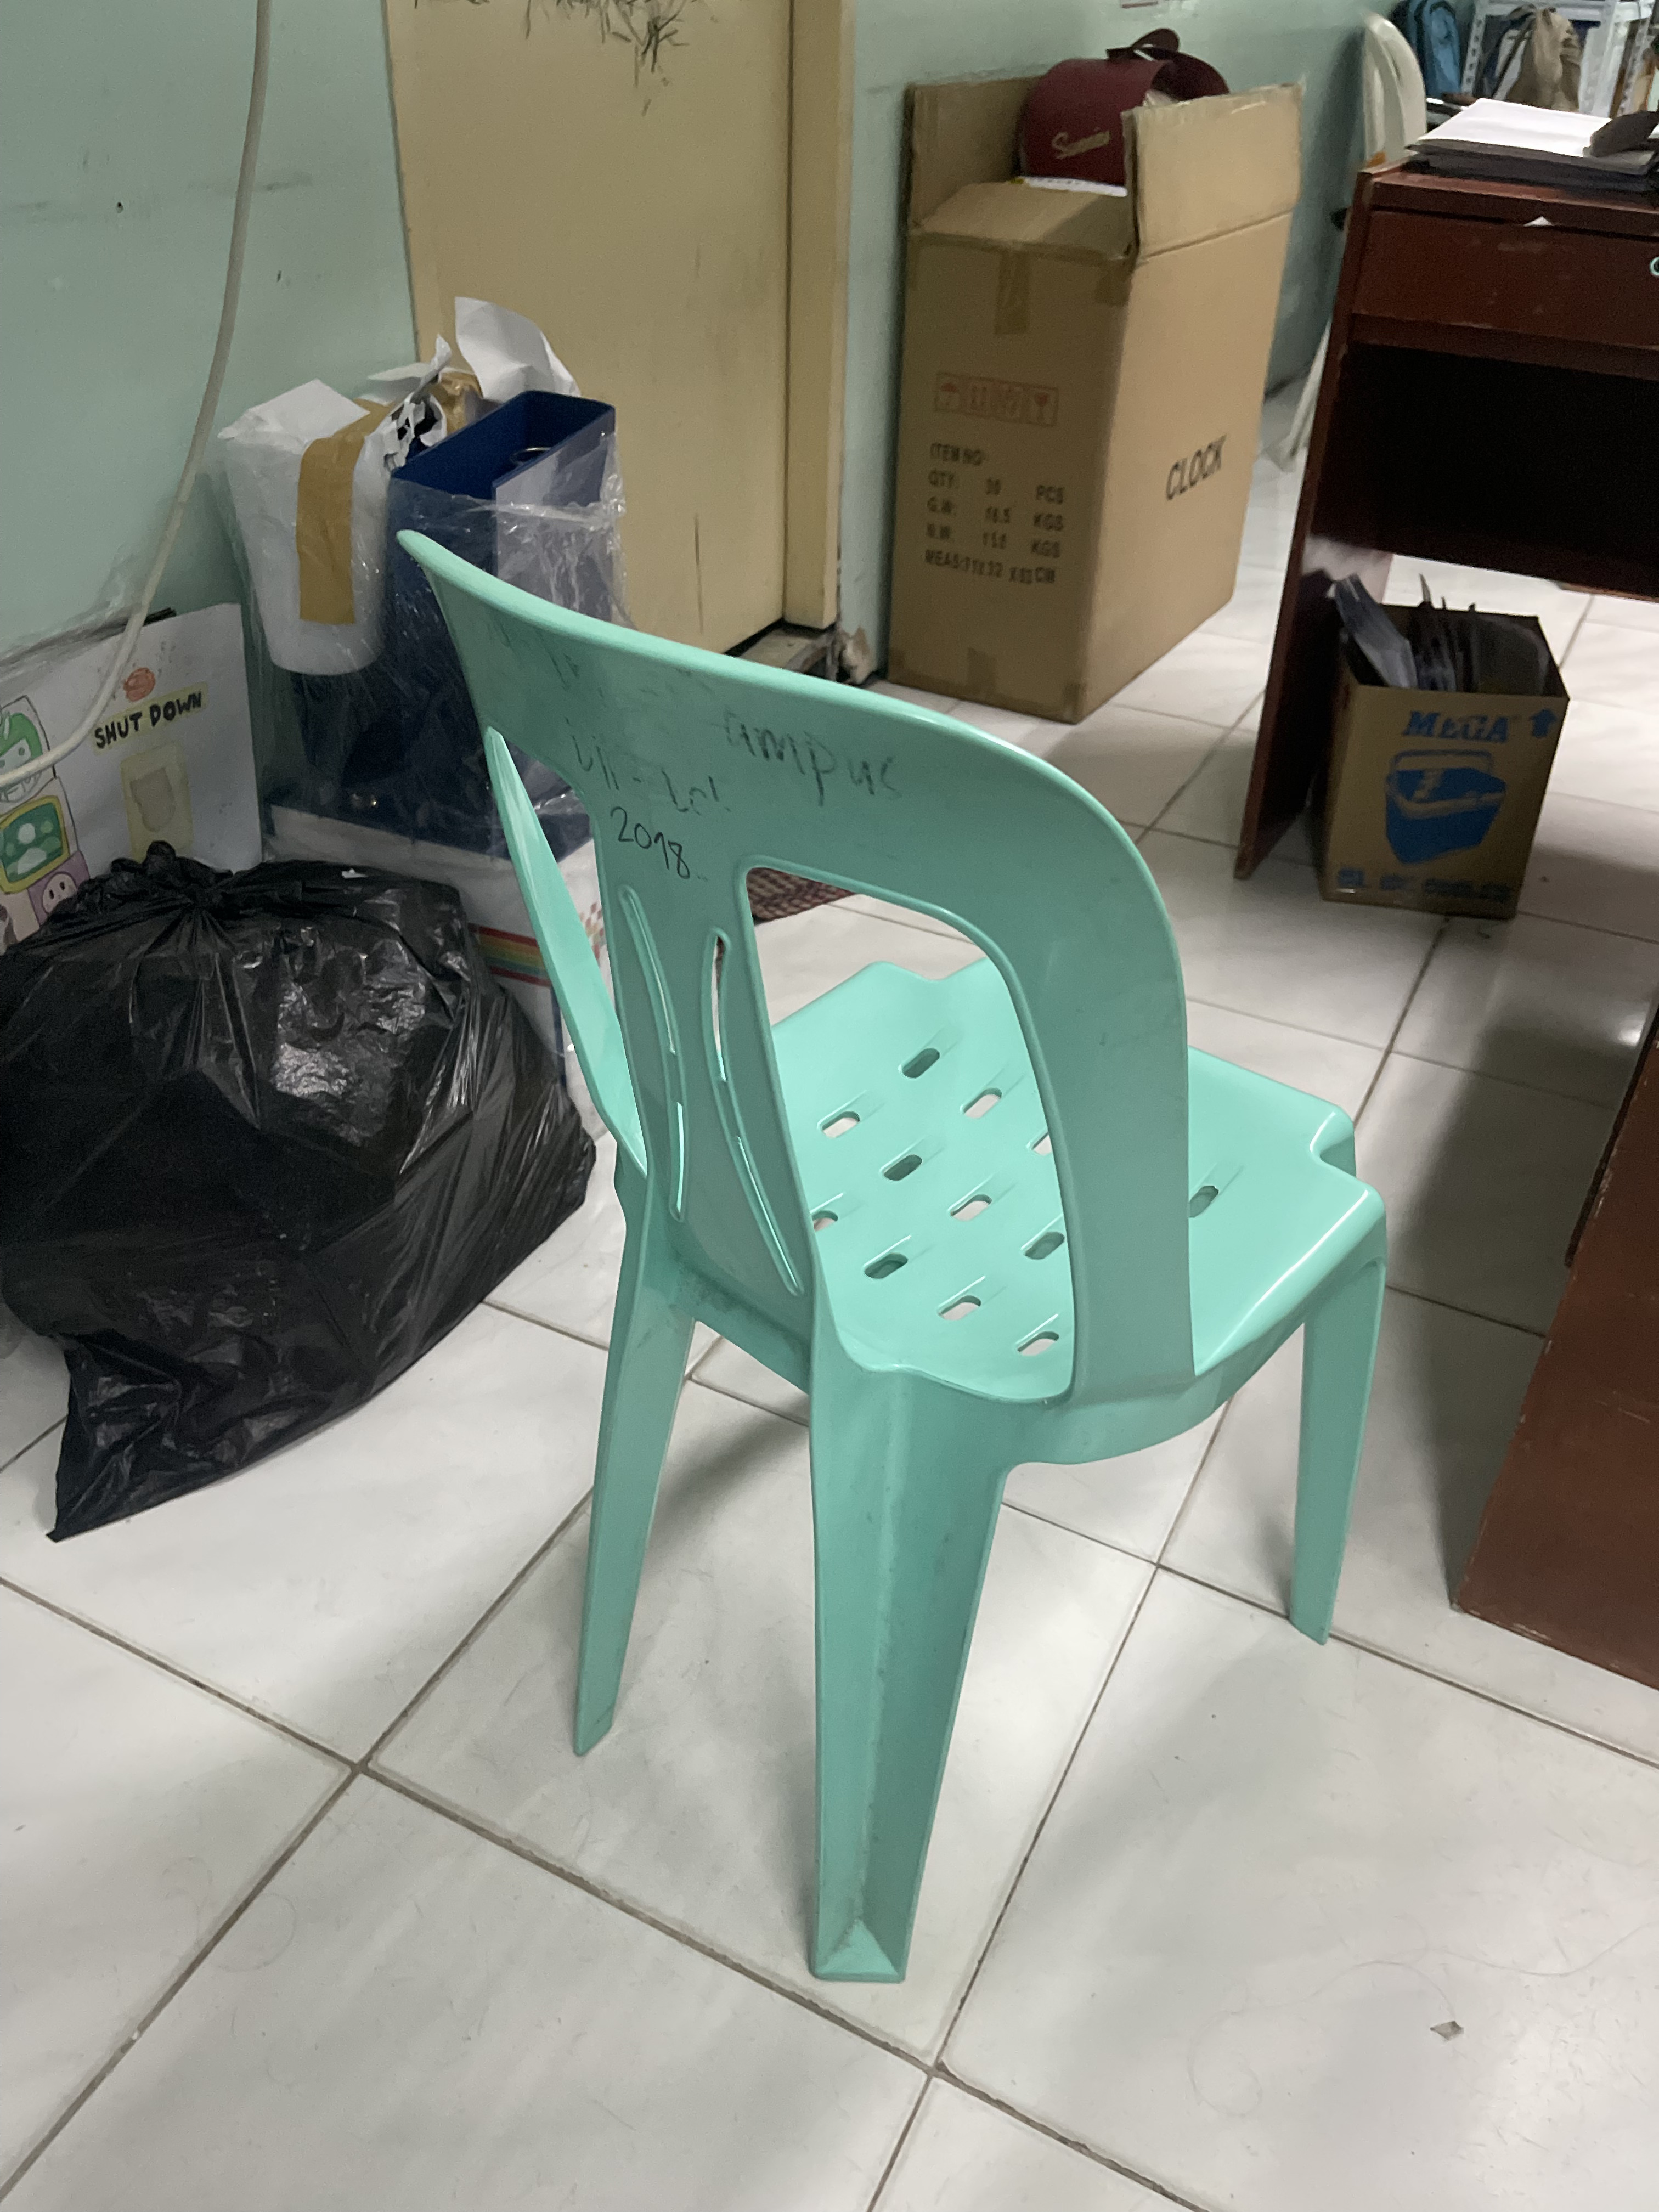chair2: (380, 507, 1398, 1989)
